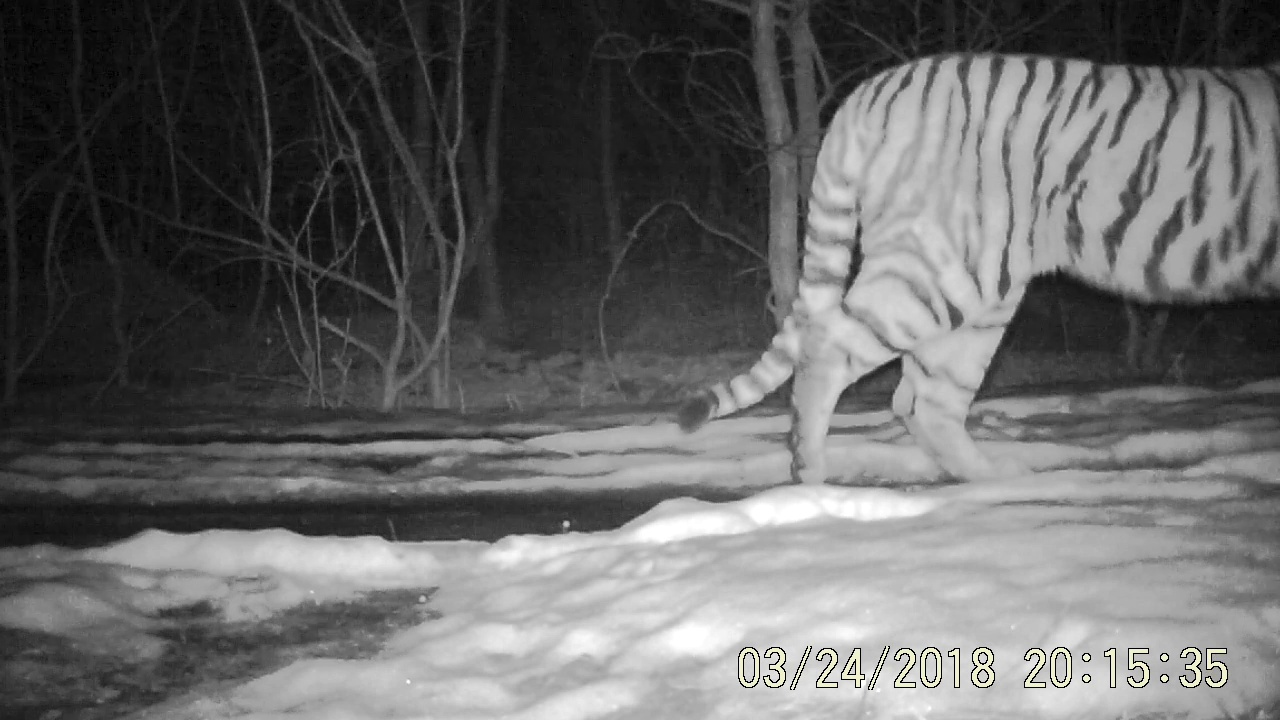Tiger: (671, 36, 1280, 543)
